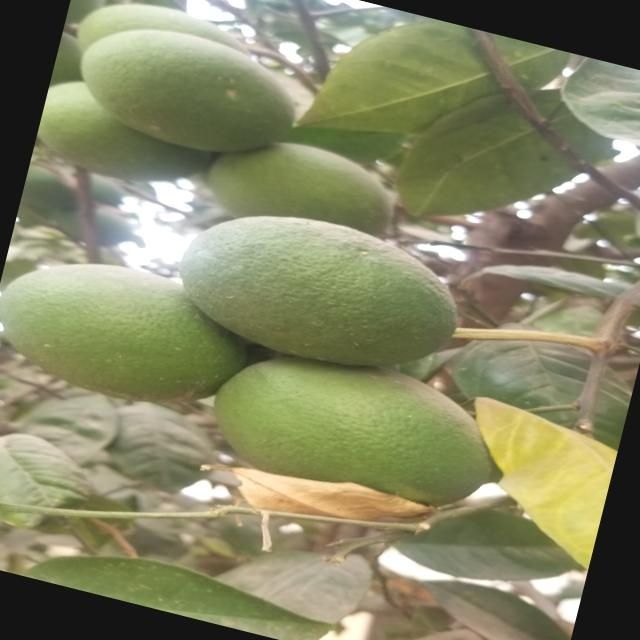agrume: (165, 188, 490, 408), (190, 330, 506, 549), (0, 237, 251, 429), (58, 8, 314, 183)
